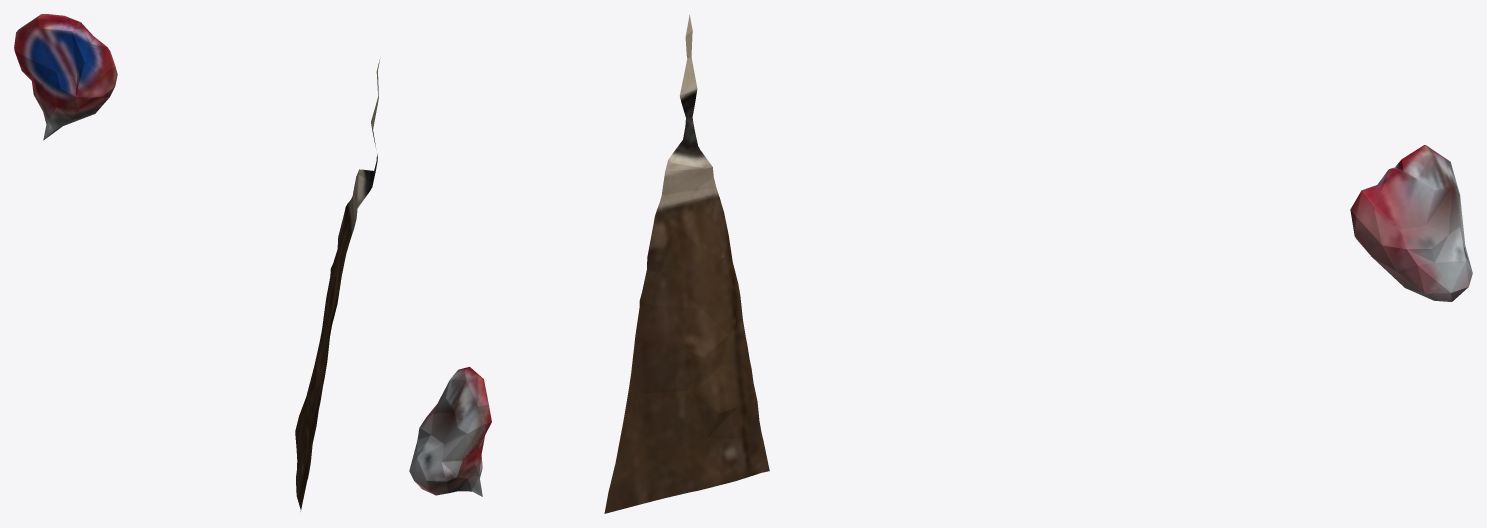
3 renders of one model, left to right at view 1: azimuth 30°, elevation 25°; view 2: azimuth 150°, elevation 25°; view 3: azimuth 270°, elevation 25°, orthographic. The views are drawn at different scales.
Size of the model in its own units: 0.5034 by 2.53 by 3.09.
Materials: 1 (1 with a texture image).
